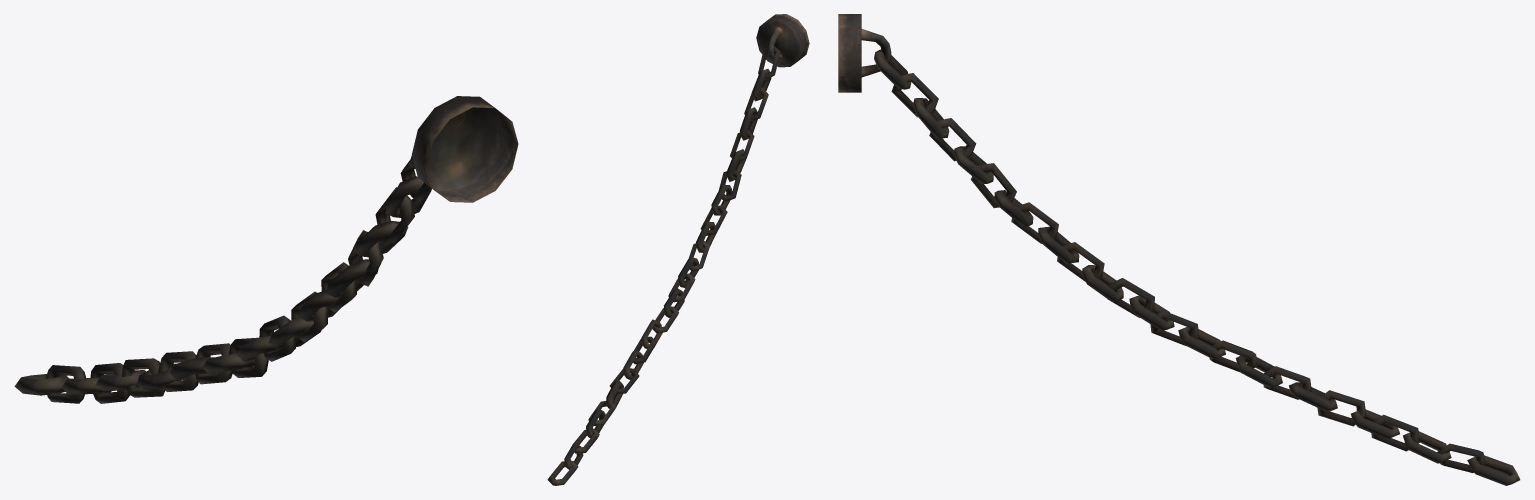
Rendered from tielian.FBX.
3 renders of one model, left to right at view 1: azimuth 30°, elevation 25°; view 2: azimuth 150°, elevation 25°; view 3: azimuth 270°, elevation 25°, orthographic. The views are drawn at different scales.
Visible parts, largest first — view 1: Mesh_0308; view 2: Mesh_0308; view 3: Mesh_0308.
Part boxes in pixels (x1=…): Mesh_0308: x1=14, y1=96, x2=518, y2=403; Mesh_0308: x1=547, y1=14, x2=809, y2=485; Mesh_0308: x1=838, y1=14, x2=1520, y2=485.
Size of the model in its own units: 1.93 by 12.5 by 16.74.
1 material, 1 textured.
